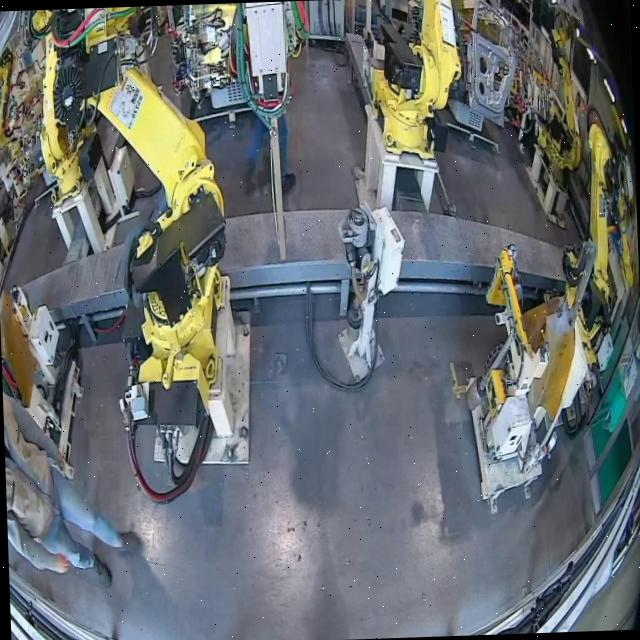Person: (2, 371, 127, 590), (242, 108, 296, 196)
